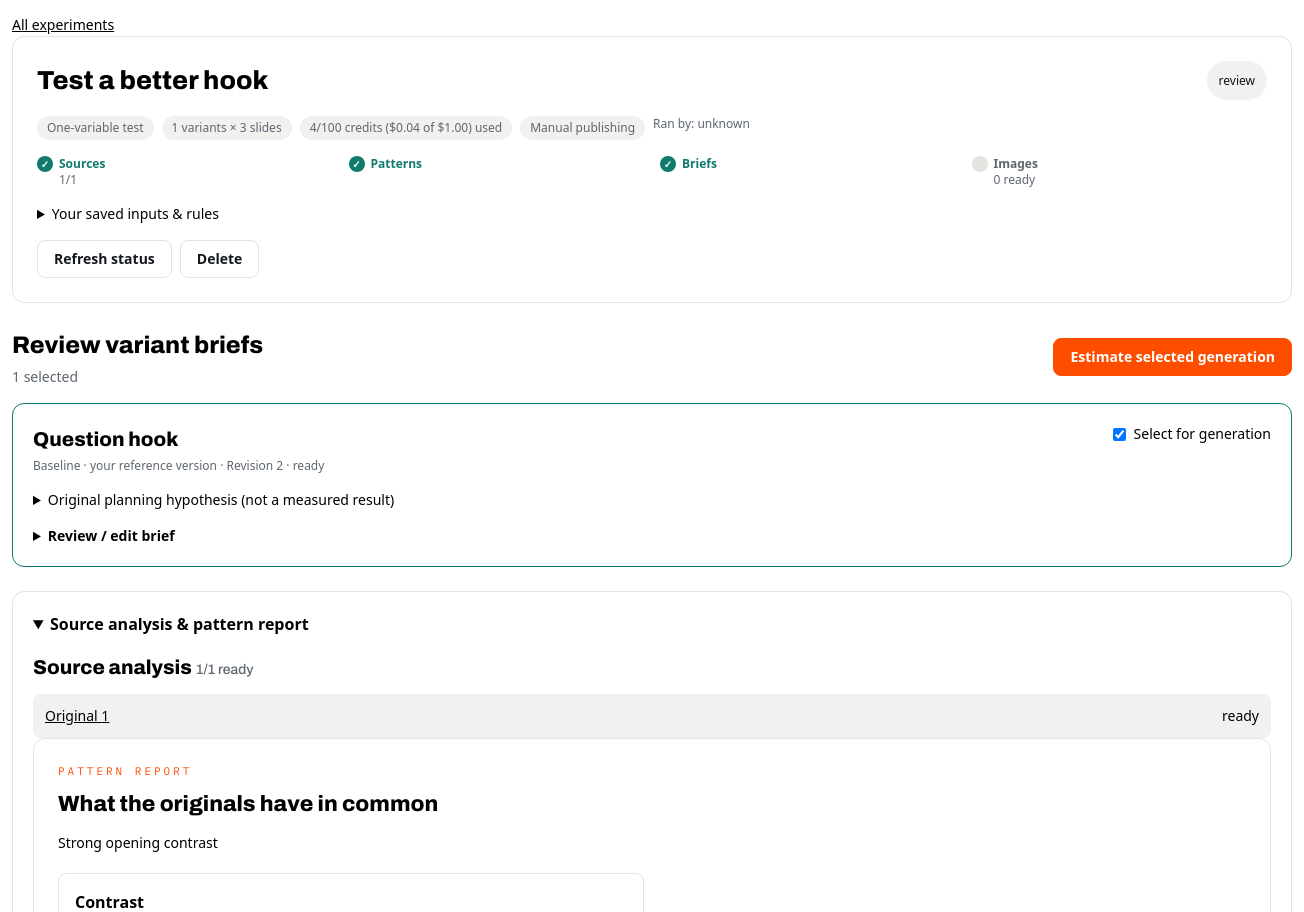
Test: lets pack credits cover generation even when the experiment auto-cap is short
This screenshot has width=1304, height=912.
expect the heading "Question hook" is shown: met, box [33,428,178,450]
Click the button "Estimate selected generation" at (1173, 357), box [1054,338,1292,376]
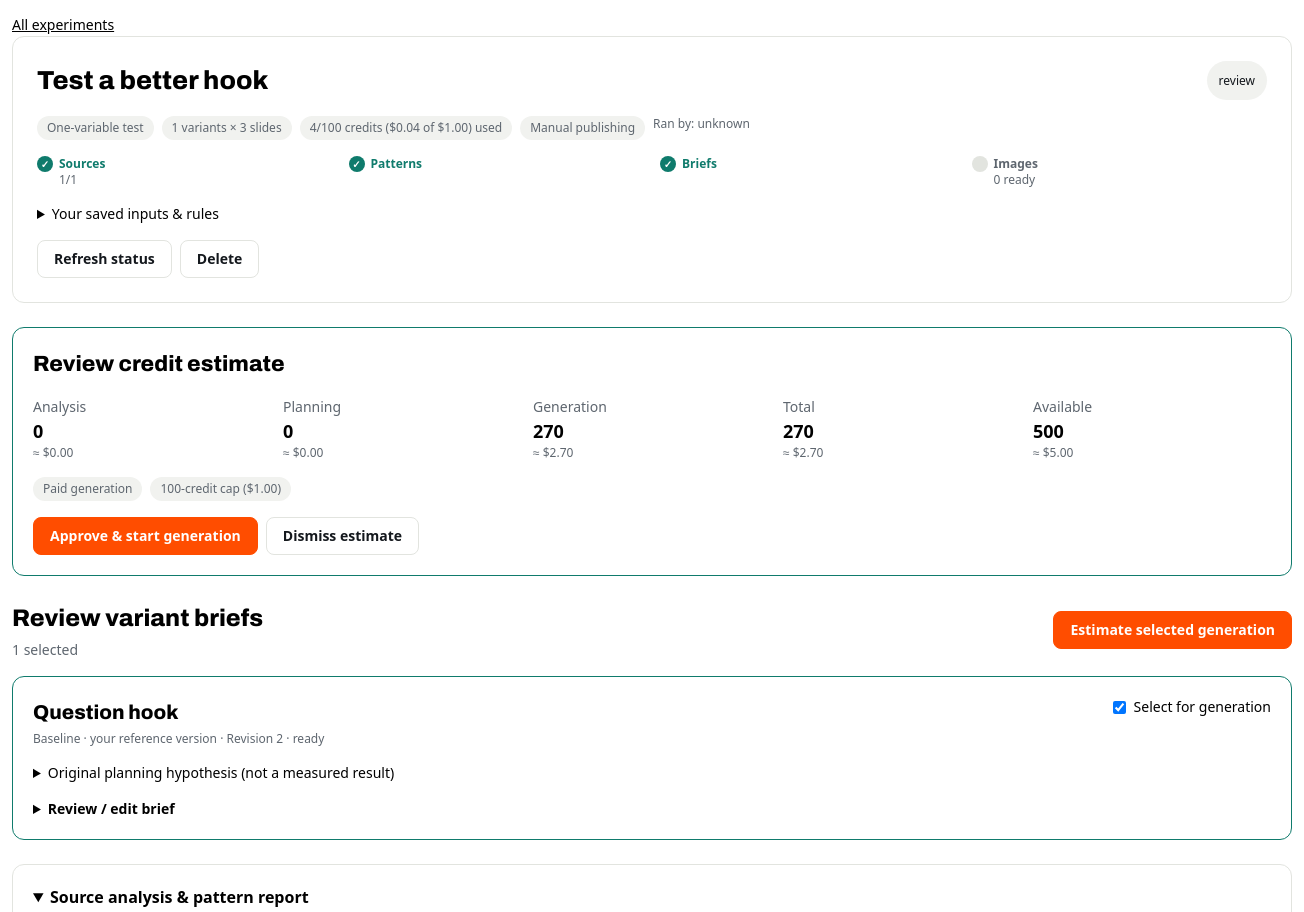
expect the button "Approve & start generation" is enabled: met, box [33,517,258,555]
expect the element showing "500 ≈ $5.00" is shown: met, box [1033,419,1073,461]
